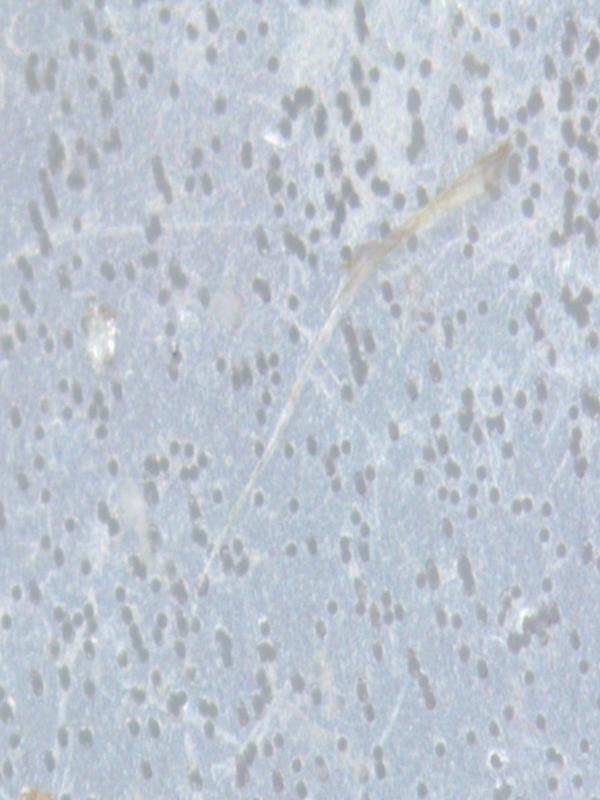microplastic: (0, 0, 599, 799), (193, 133, 516, 594)
